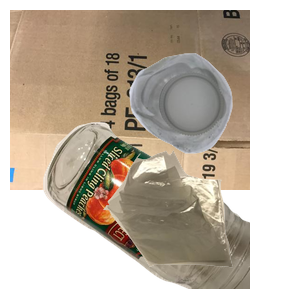cardboard: (10, 10, 250, 190)
glass: (41, 120, 281, 300)
plastic: (127, 51, 300, 197)
trash: (101, 148, 300, 300)
